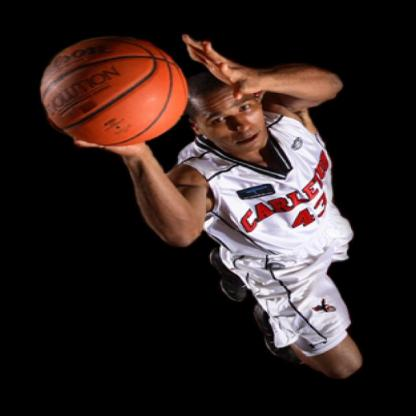basketball: (43, 36, 190, 148)
